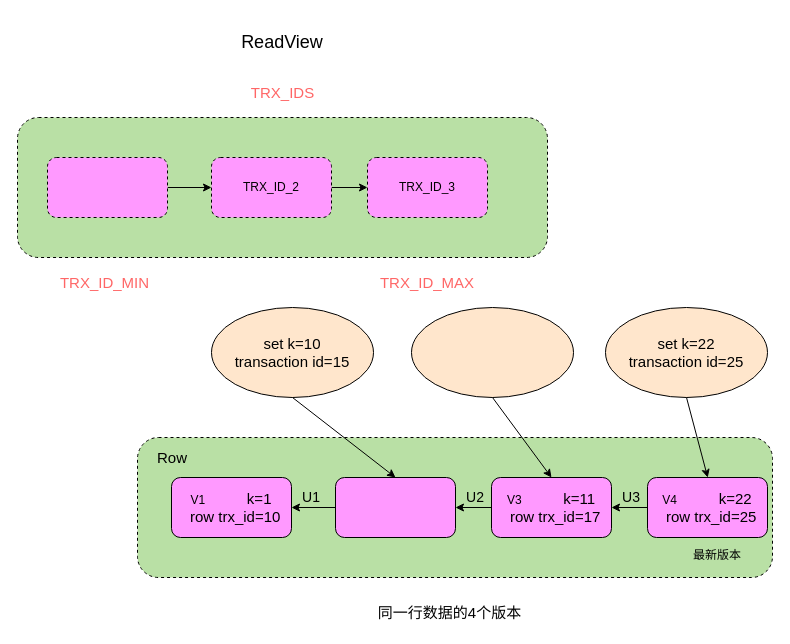
Image size: 790x644. Some labels were removed from this diagram. Here are the shapes that lost their labels. From the top down, the centre of each, then its label:
At pixel 107 187: "TRX_ID_1".
At pixel 492 352: "set k=11 transaction id=17".
At pixel 395 507: "V2 k=10 row trx_id=15".
